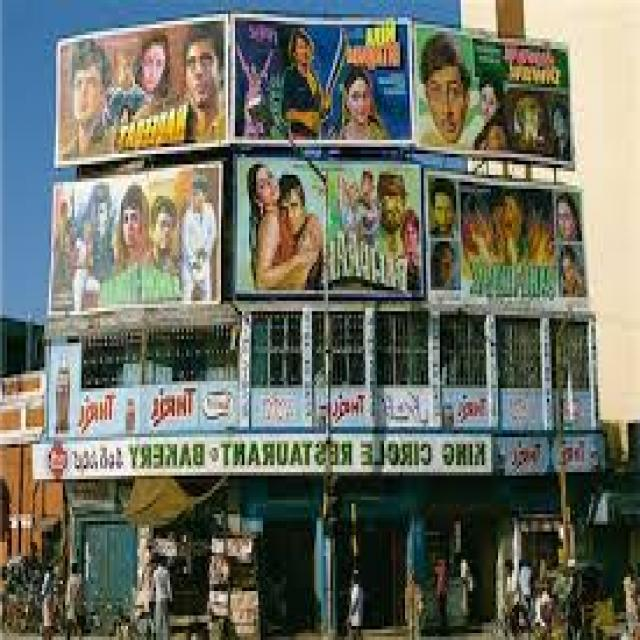Werbetafel frei: (56, 38, 571, 332)
